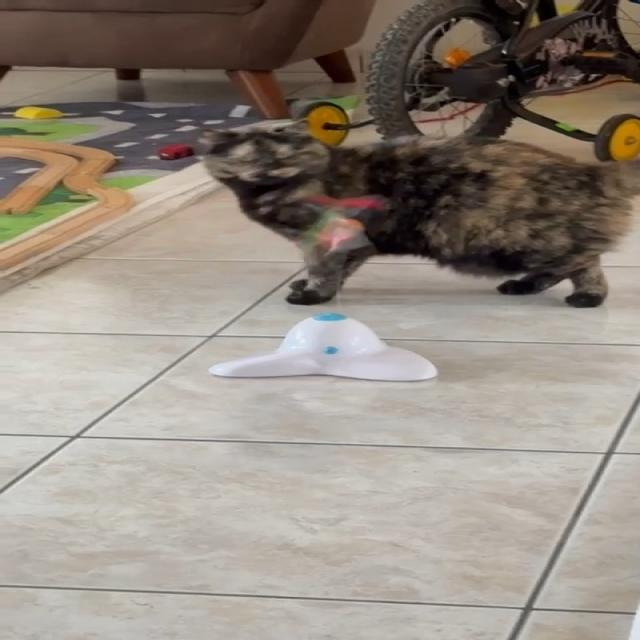authorized: (196, 116, 639, 308)
